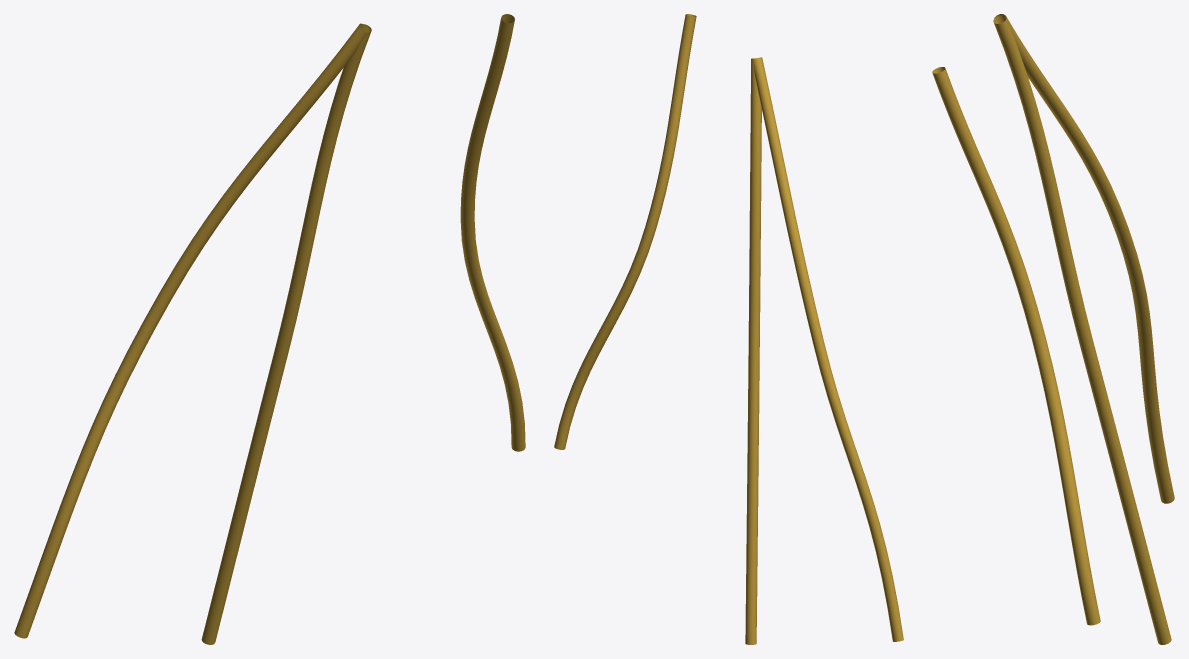
3 views of the same model, side by side, from view 1: azimuth 30°, elevation 25°; view 2: azimuth 150°, elevation 25°; view 3: azimuth 270°, elevation 25° (orthographic). The views are drawn at different scales.
Parts seen in each view (by area): view 1: 足底内侧神经趾足底总神经; view 2: 足底内侧神经趾足底总神经; view 3: 足底内侧神经趾足底总神经.
Part boxes in pixels (<box>): 足底内侧神经趾足底总神经: <box>14,14,525,644</box>; 足底内侧神经趾足底总神经: <box>554,14,903,644</box>; 足底内侧神经趾足底总神经: <box>932,14,1174,644</box>.
Bounding box in the file's own units: 0.0571 × 0.0765 × 0.0252.
